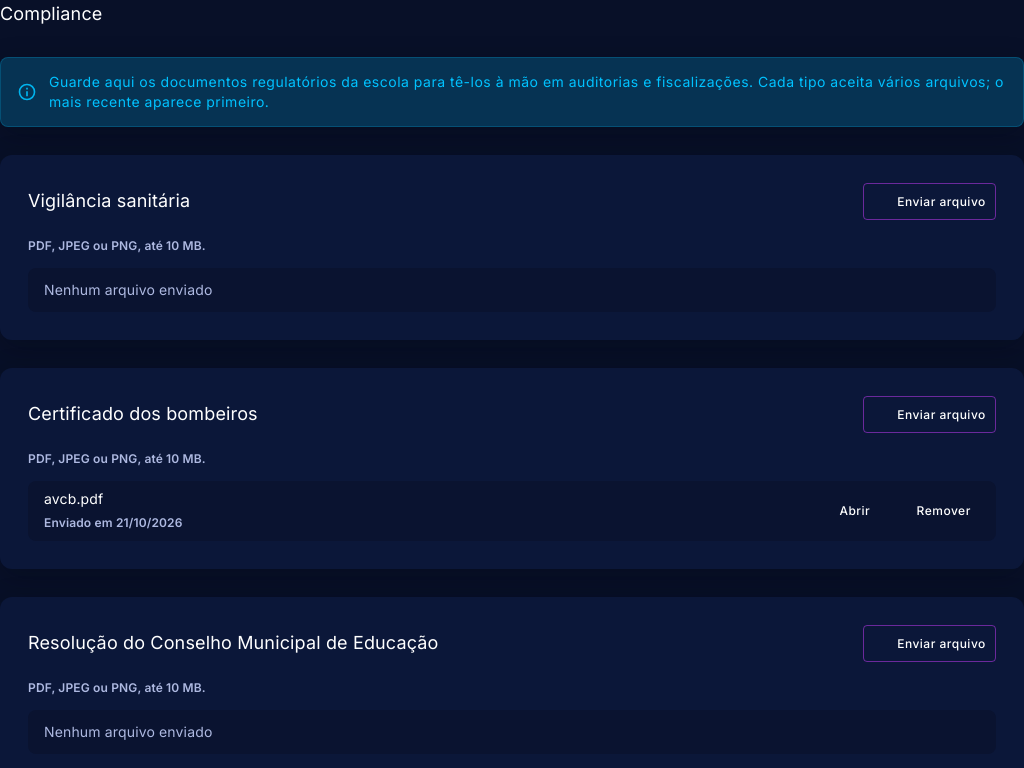
Test: Compliance documents › removes a file only after confirmation
The image size is (1024, 768).
Expected: the text "avcb.pdf" is shown, 44,490 -> 103,507
Click the button with aria-label "remover avcb.pdf".
click(932, 511)  # box 883,493 -> 980,528
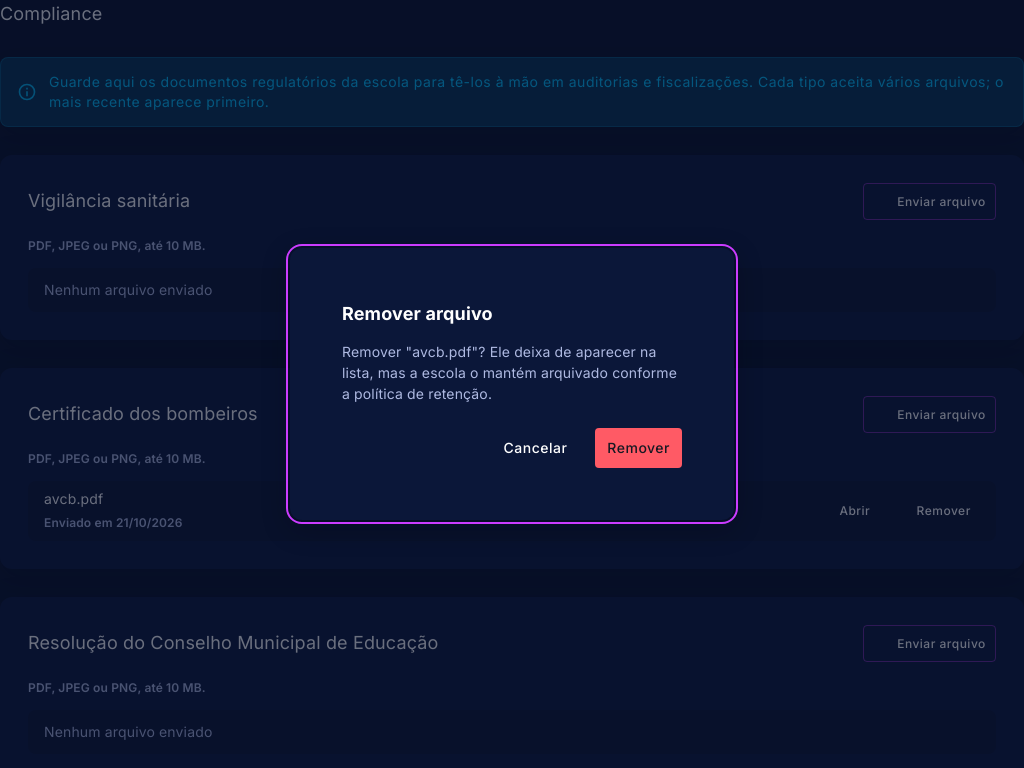
Cancelling leaves the file alone.
Click the button "Cancelar".
click(535, 448)  # box 492,428 -> 579,468
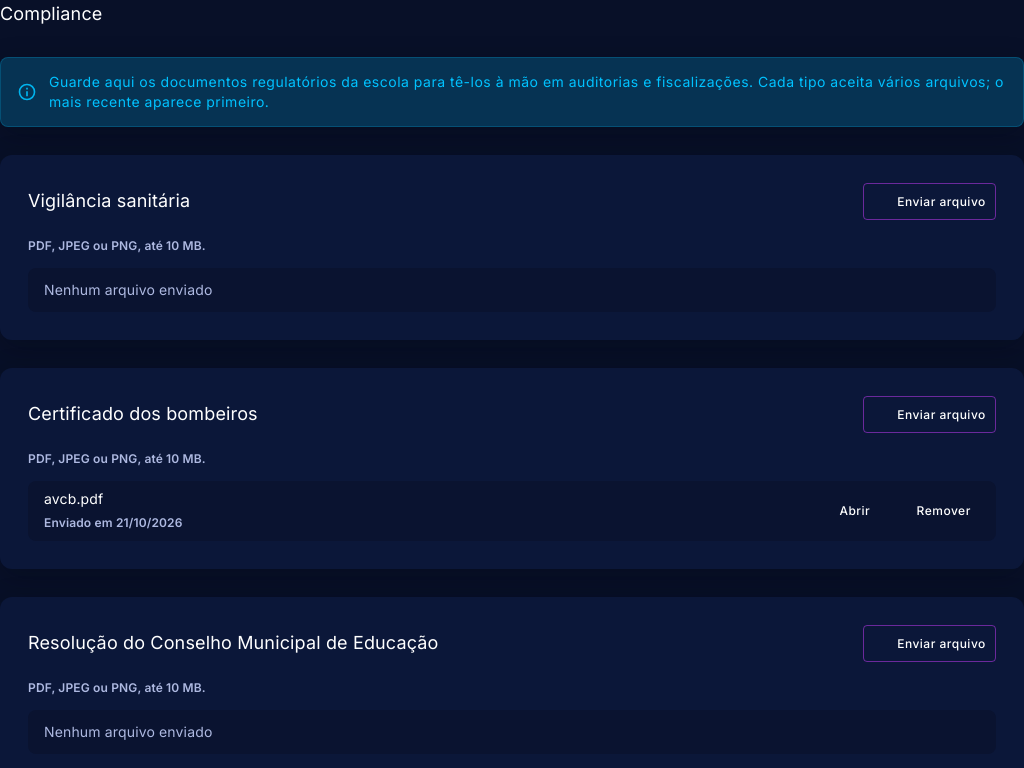
Expected: the dialog is gone
Click the button with aria-label "remover avcb.pdf".
click(932, 511)  # box 883,493 -> 980,528
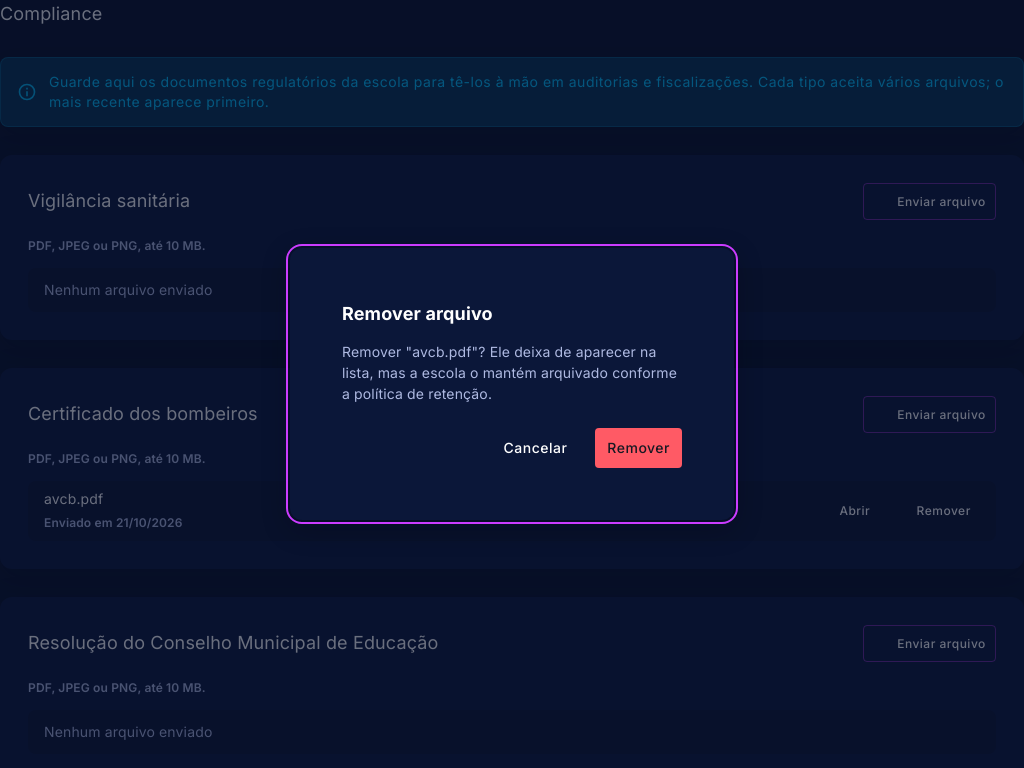
Click the button "Remover".
click(639, 448)  # box 595,428 -> 682,468
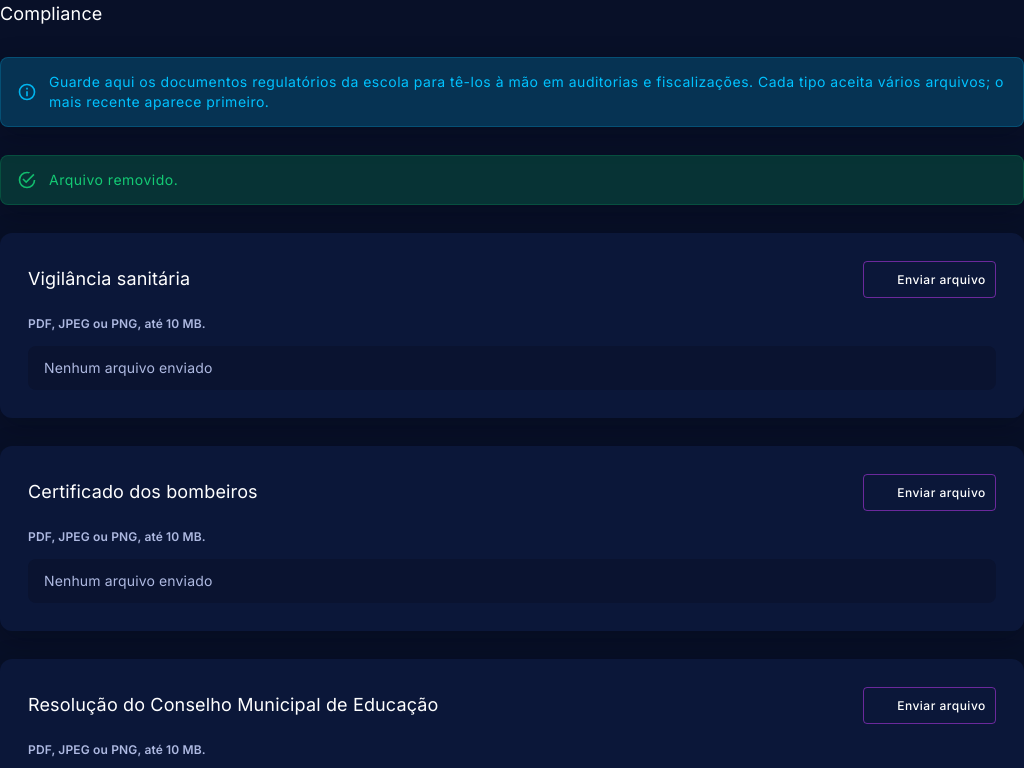
Expected: the text "Arquivo removido." is shown, 49,171 -> 178,188
Expected: the text "avcb.pdf" is gone
